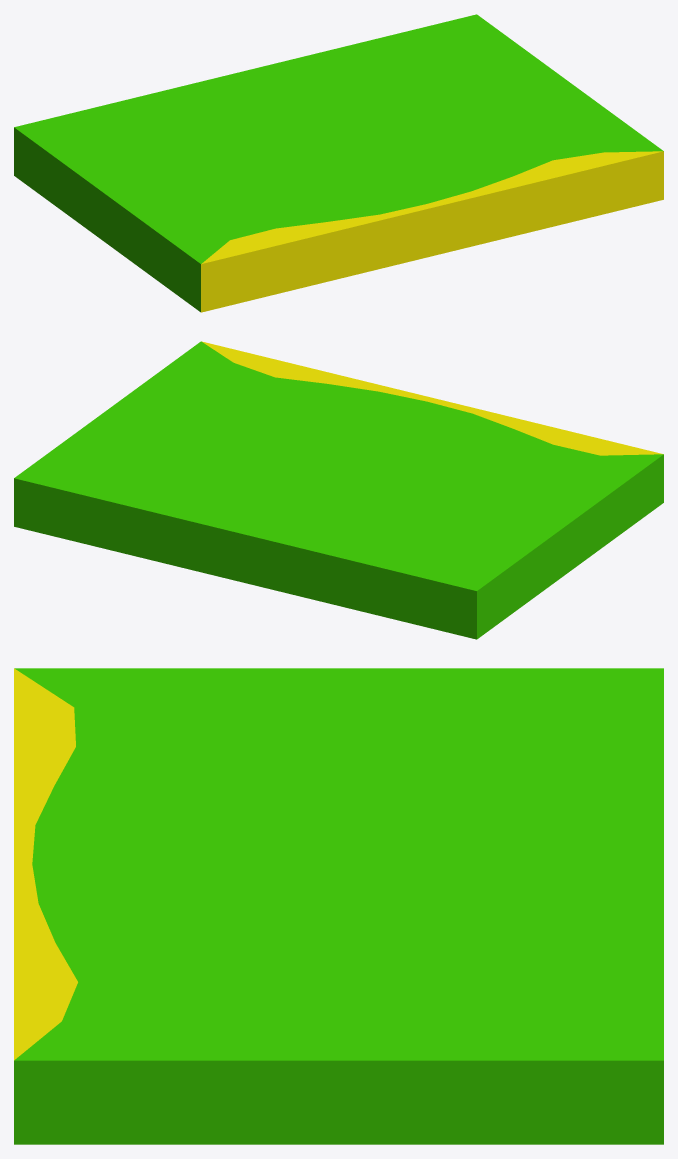
The model's file is side_terrain.fbx.
The picture shows the model from 3 angles, top to bottom: view 1: azimuth 30°, elevation 25°; view 2: azimuth 150°, elevation 25°; view 3: azimuth 270°, elevation 25°; orthographic projection. The views are drawn at different scales.
Parts seen in each view (by area): view 1: Box001; view 2: Box001; view 3: Box001.
Boxes of the visible parts, bbox=[...] form: Box001: bbox=[14, 14, 663, 312]; Box001: bbox=[14, 341, 663, 639]; Box001: bbox=[14, 668, 663, 1144].
Size of the model in its own units: 400 by 40 by 280.
